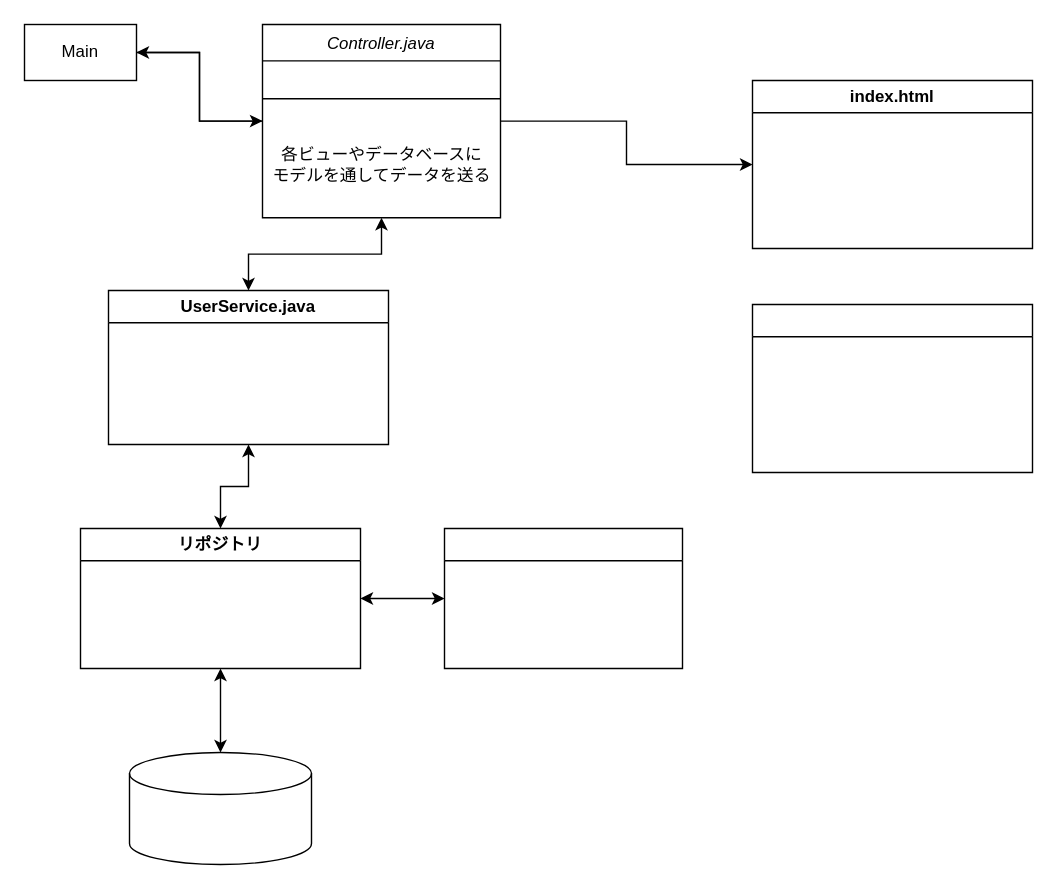
The diagram is 1057 pixels wide and 889 high, and some of its shapes have lost their labels. The shapes that lost their labels are listed below. From the top down, each one's centre as x and y in pixels, then its label:
(891,387): add.html
(562,597): エンティティ
(220,807): MySQL
